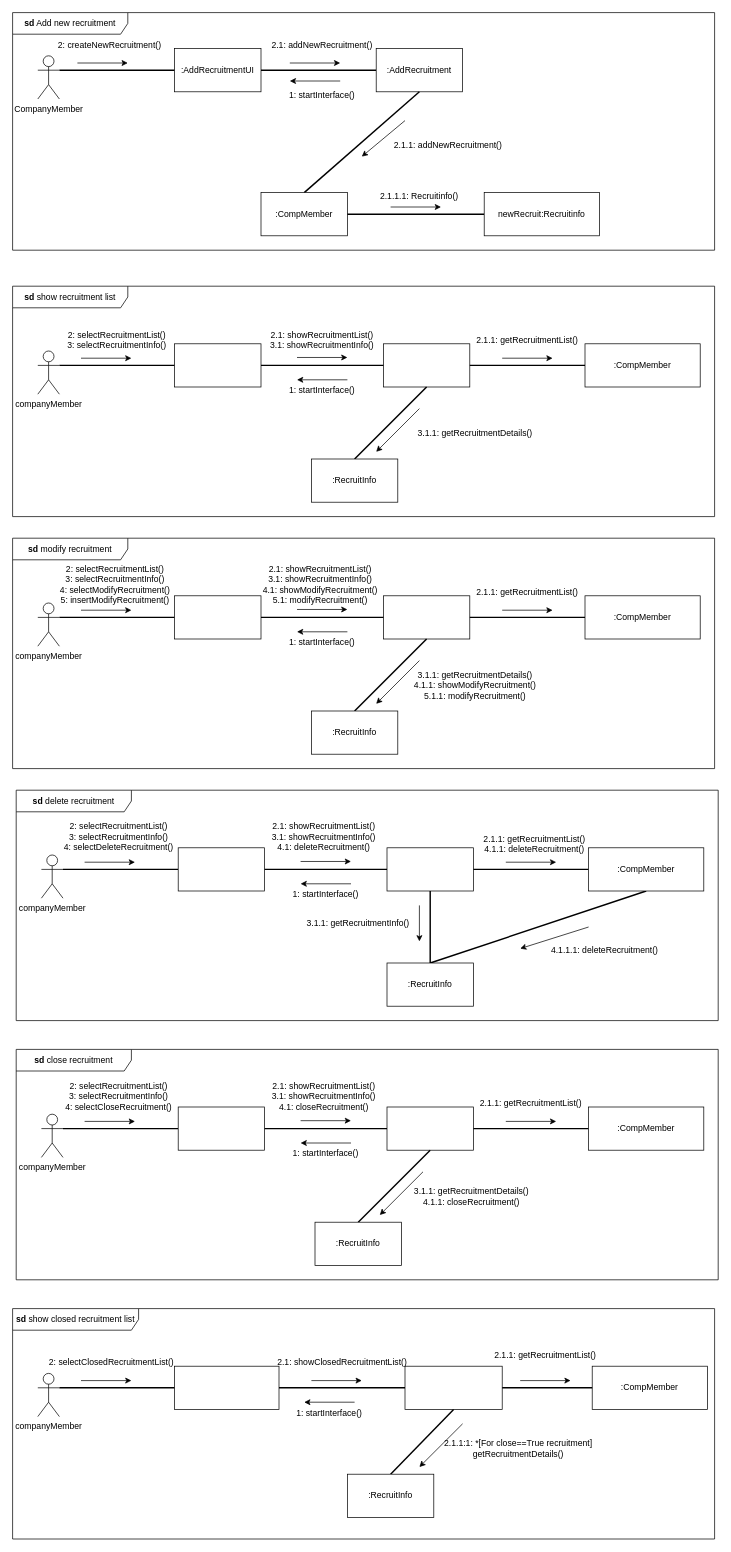
This 731x1552 diagram has some shape labels left out. Here are the shapes that lost their labels. From the top down, the centre of each, then its label:
the point at 217,365: :recruitmentInfoUI
the point at 426,365: :showRecruitmentInfo
the point at 217,617: :modifyRecruitmentUI
the point at 426,617: :modifyRecruitment
the point at 221,869: :deleteRecruitmentUI
the point at 429,869: :deleteRecruitment
the point at 221,1128: :closeRecruitmentUI
the point at 429,1128: :closeRecruitment
the point at 226,1387: :closedRecruitmentListUI
the point at 453,1387: :closedRecruitmentList
